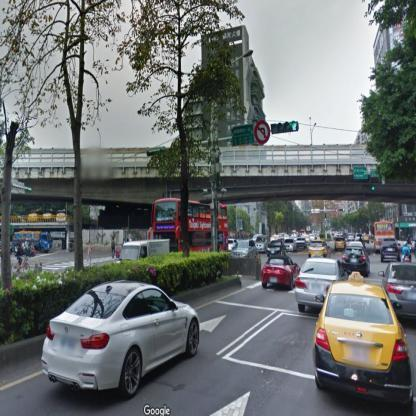Green Light: (269, 120, 299, 132)
